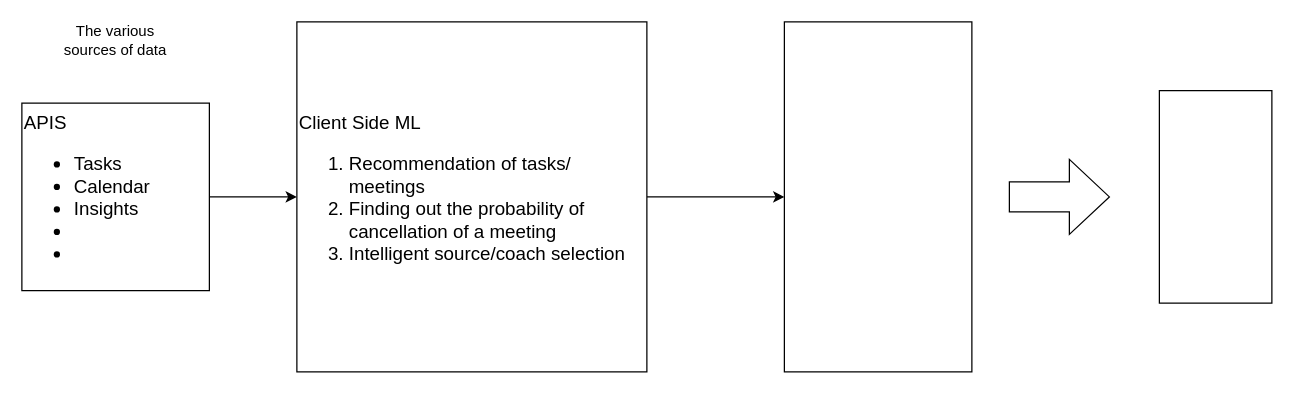
Some shapes in this 1294 by 394 pixel diagram are drawn without their labels. The shapes that lost their labels are listed below. From the top down, each one's centre as x and y in pixels, then its label:
At point 877,196: "Send all the data to AugLoop and get the output of a generated calendat".
At point 1215,196: "Display on mobile client".
